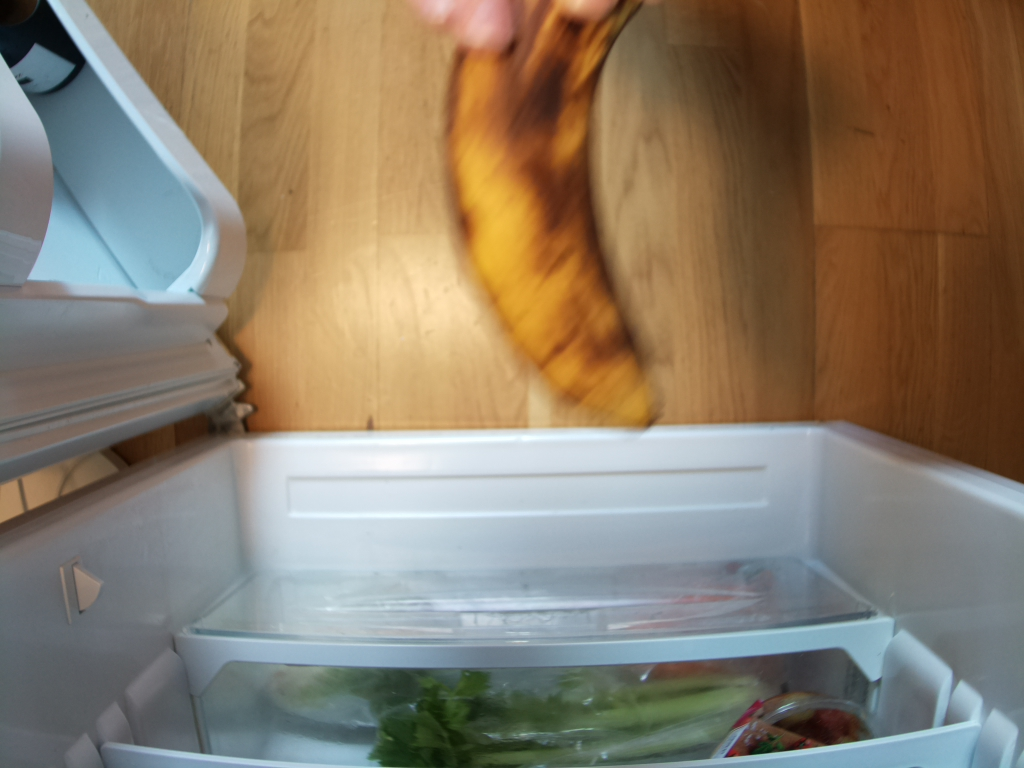banana-overripe: (440, 1, 661, 431)
